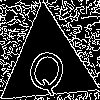Q: (22, 38, 73, 99)
